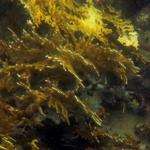alive: (2, 2, 146, 146)
